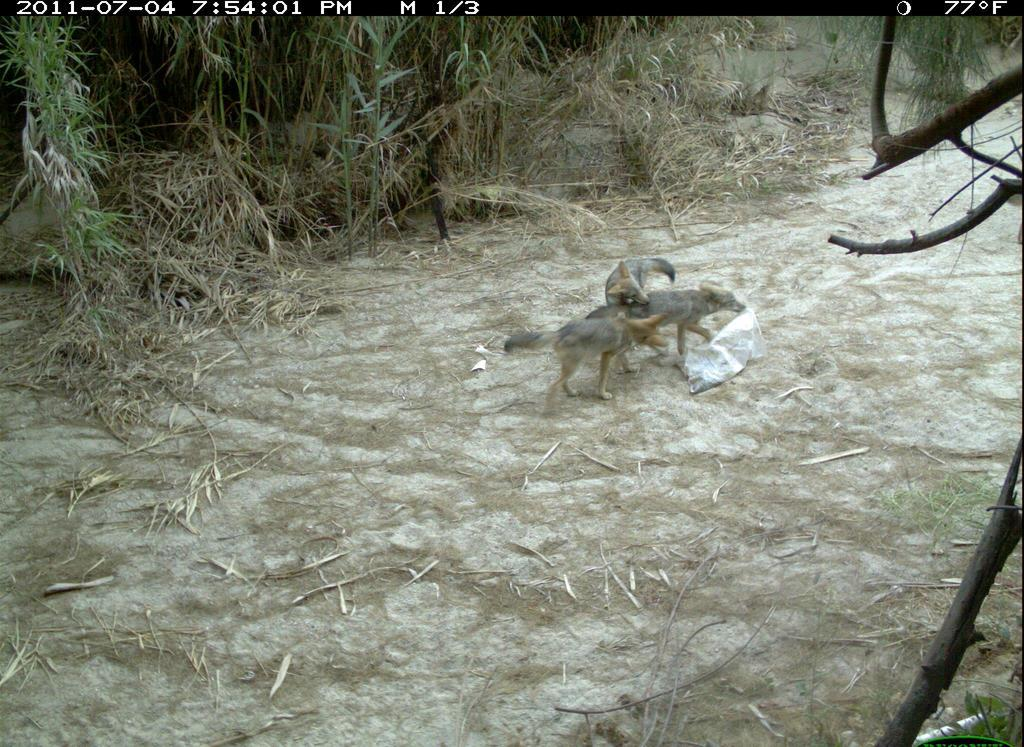coyote: (506, 257, 751, 414)
